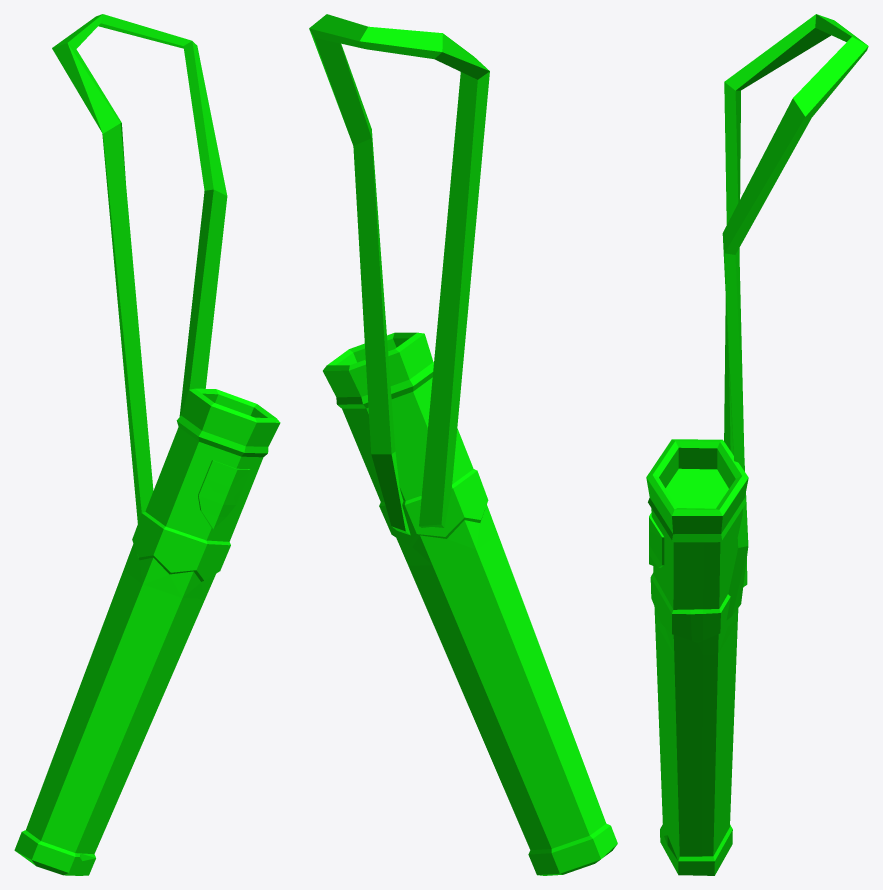
File: SM_Quiver_Arrow_Empty_Placed_Fantasy.fbx
3 views of the same model, side by side, from view 1: azimuth 30°, elevation 25°; view 2: azimuth 150°, elevation 25°; view 3: azimuth 270°, elevation 25° (orthographic). The views are drawn at different scales.
Visible parts, largest first — view 1: quiver-arrow-empty-placed-fantasy; view 2: quiver-arrow-empty-placed-fantasy; view 3: quiver-arrow-empty-placed-fantasy.
Boxes of the visible parts, x1,y1,x2,y2 form: quiver-arrow-empty-placed-fantasy: (14, 14, 280, 875); quiver-arrow-empty-placed-fantasy: (309, 14, 617, 875); quiver-arrow-empty-placed-fantasy: (646, 14, 868, 875).
Size of the model in its own units: 0.3939 by 1.19 by 0.2708.
